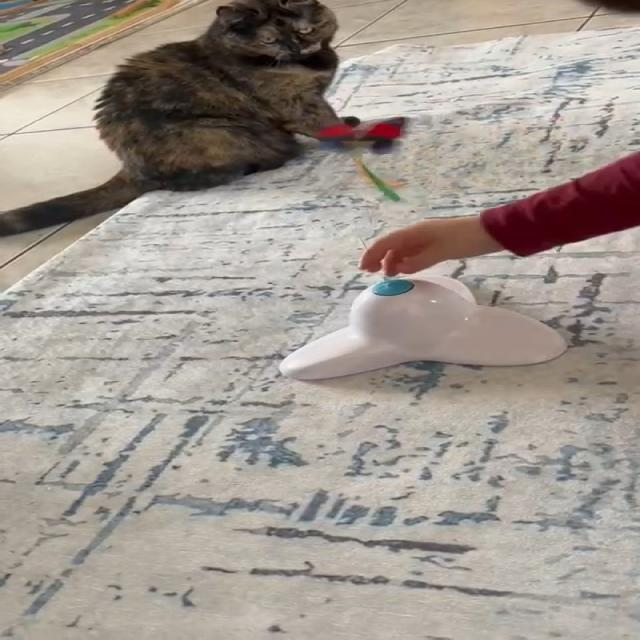authorized: (0, 0, 353, 237)
